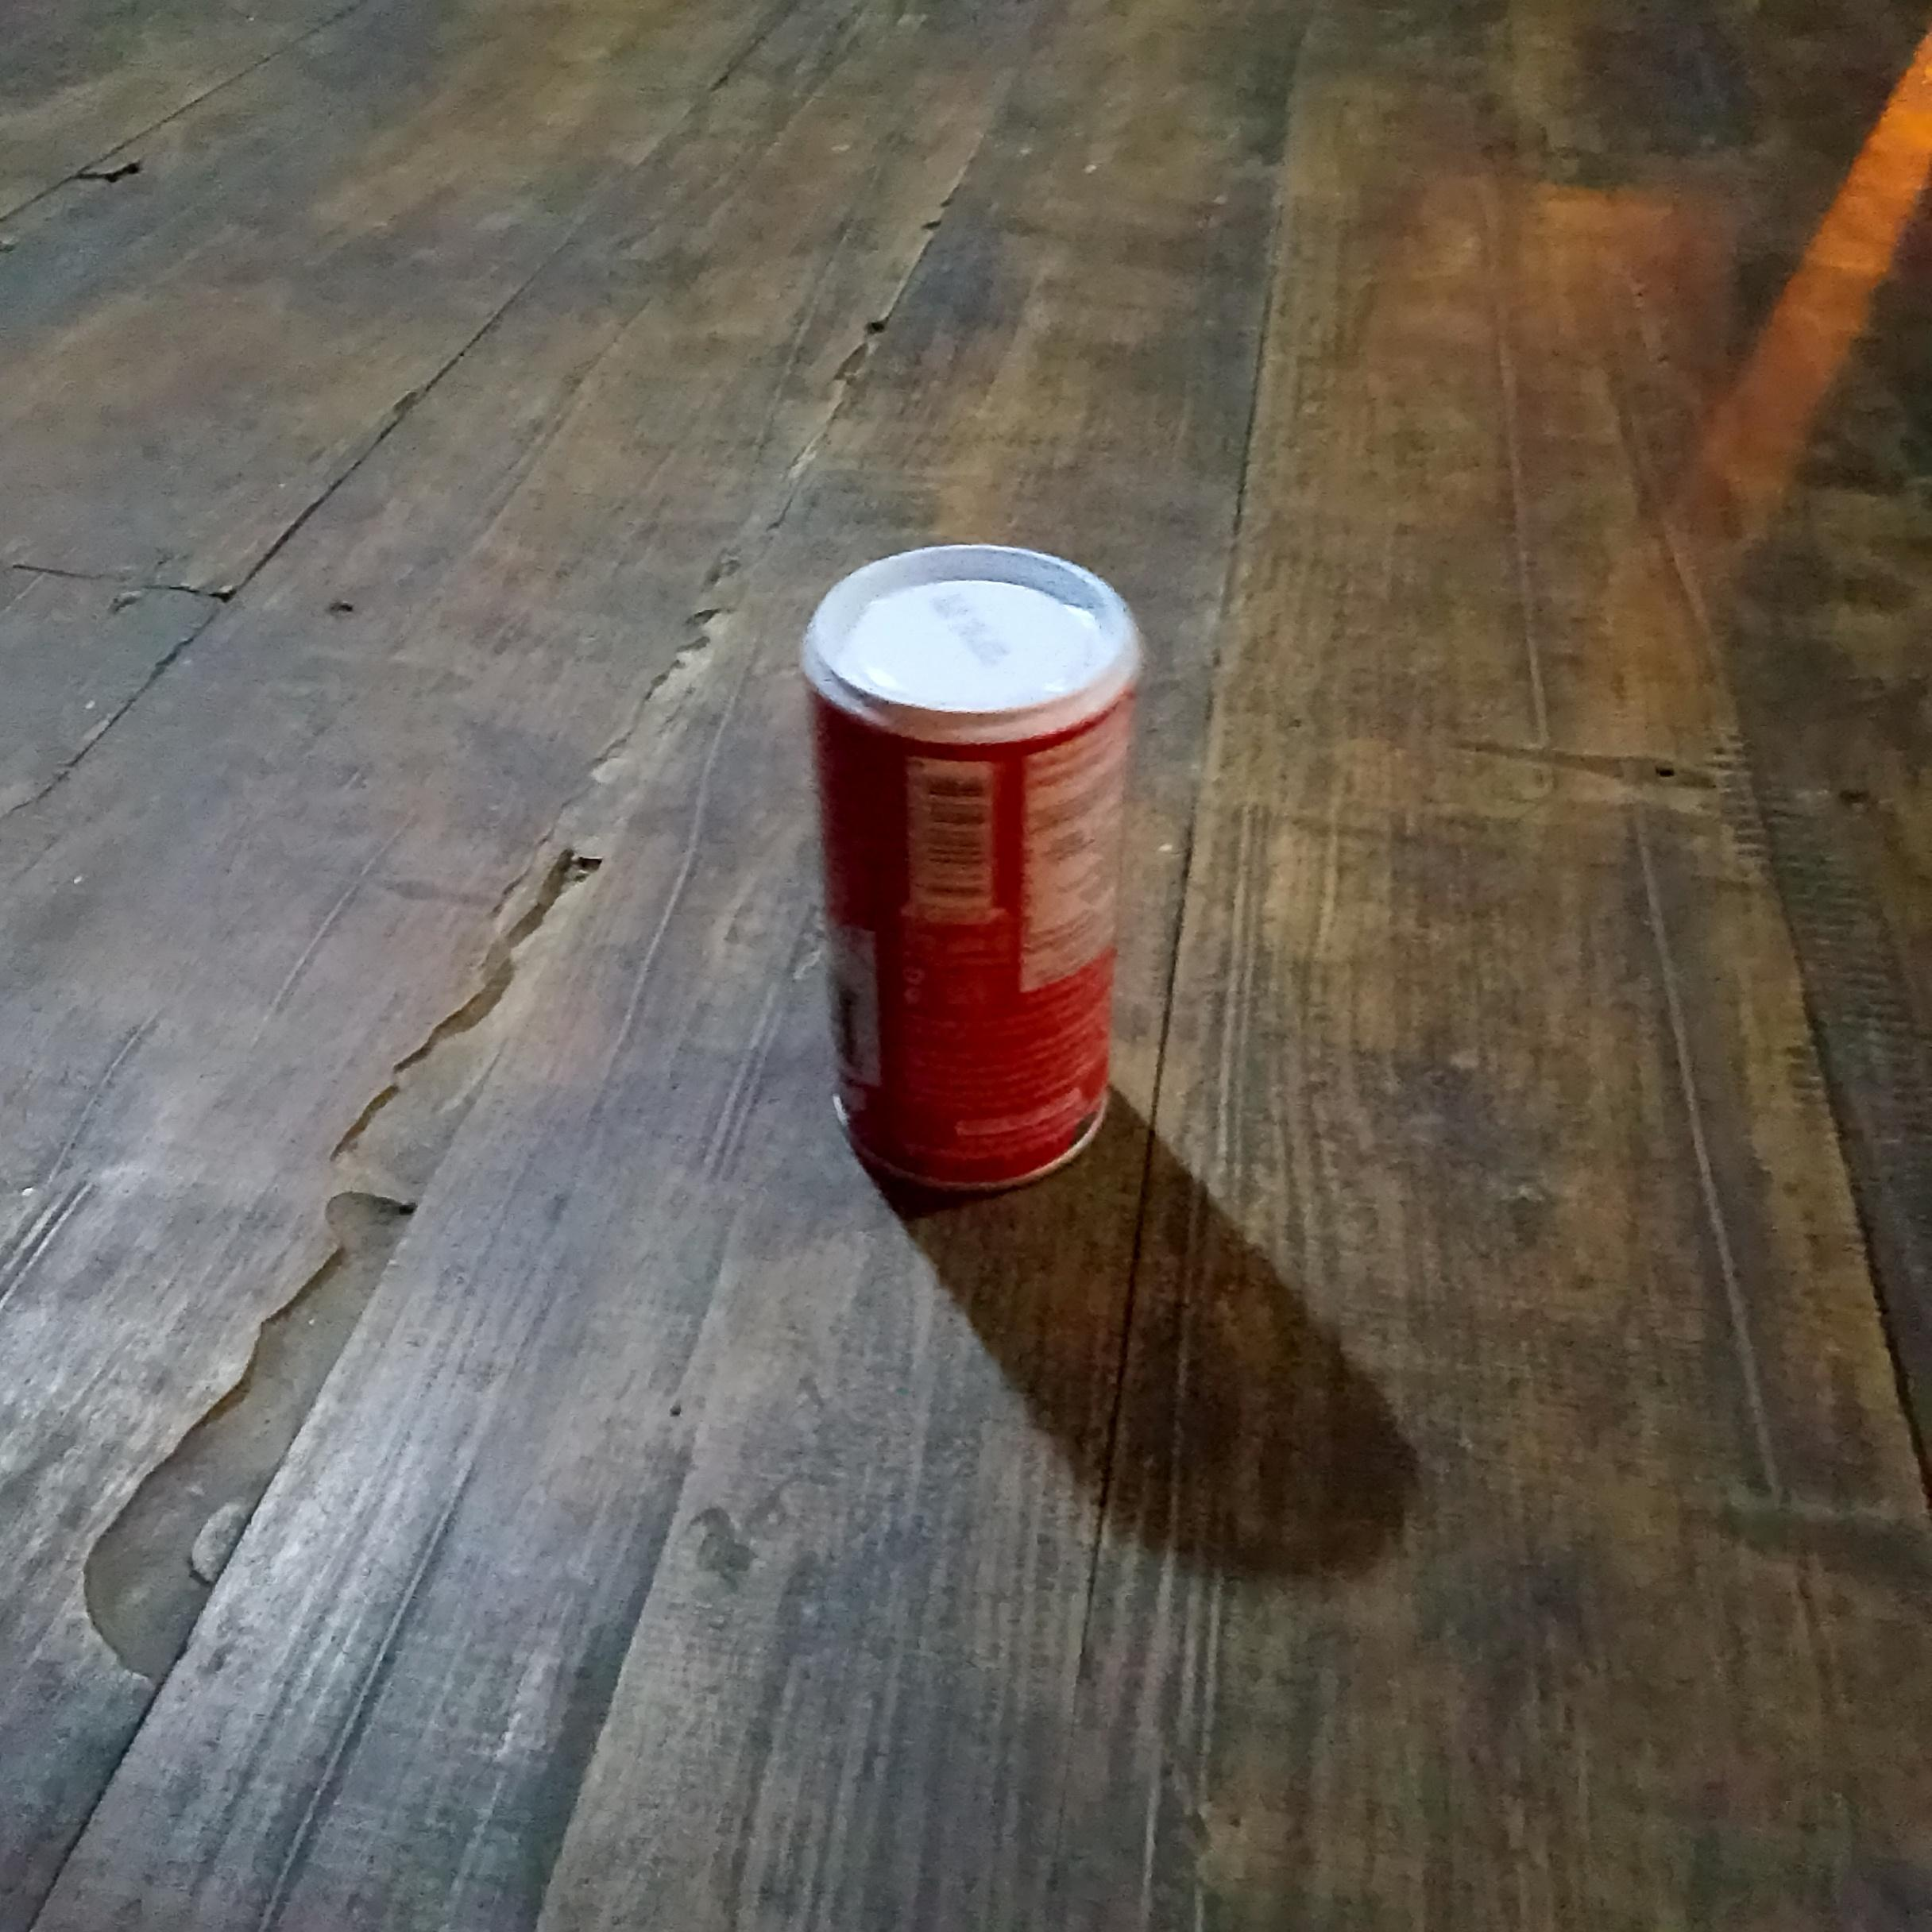can: (803, 547, 1138, 1189)
